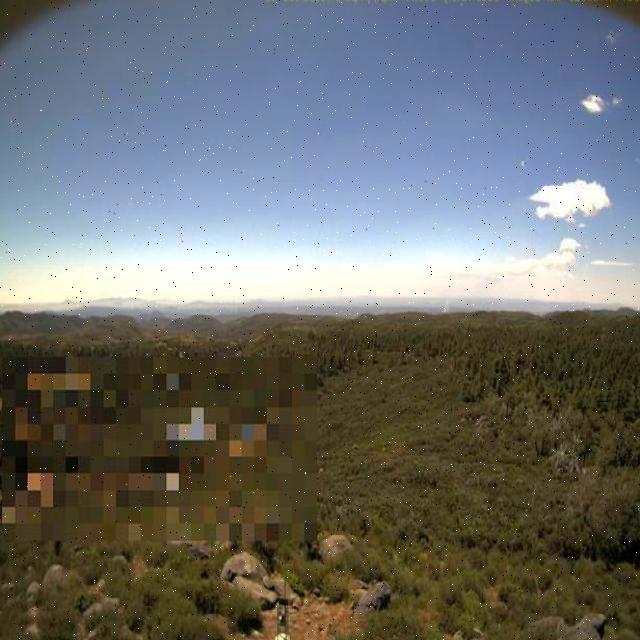smoke: (440, 286, 457, 315)
